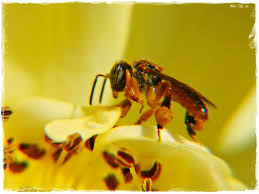jataí: (74, 51, 240, 154)
